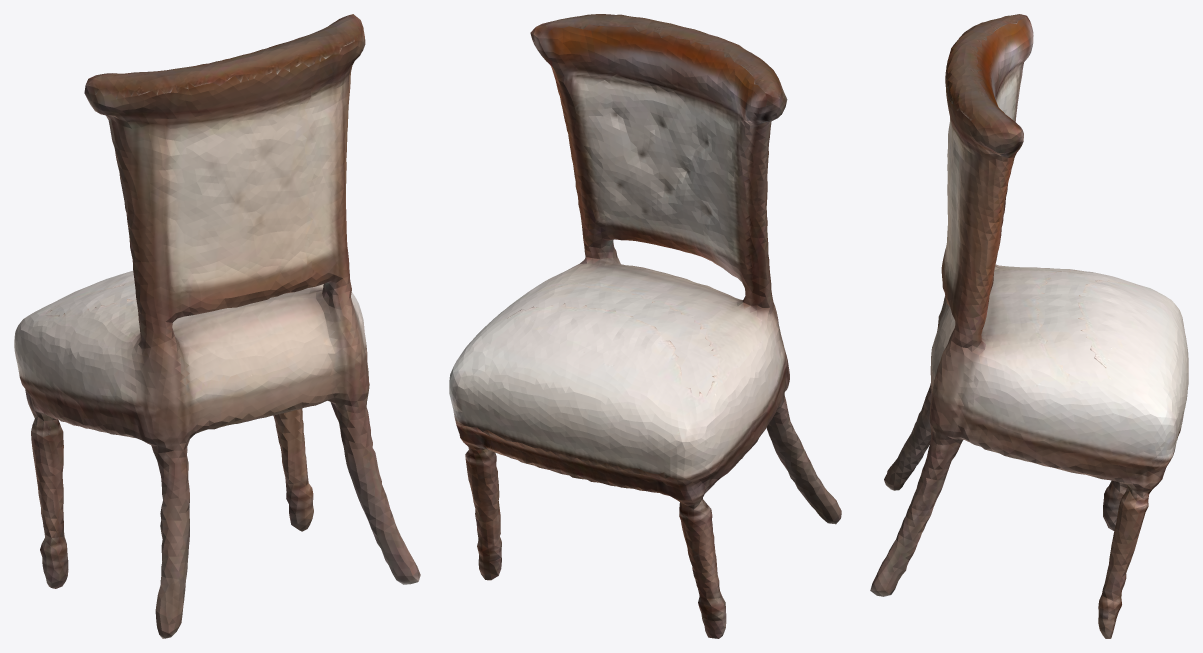
3 renders of one model, left to right at view 1: azimuth 30°, elevation 25°; view 2: azimuth 150°, elevation 25°; view 3: azimuth 270°, elevation 25°, orthographic. The views are drawn at different scales.
Parts seen in each view (by area): view 1: world; view 2: world; view 3: world.
Boxes of the visible parts, <box> form: world: <box>14,14,420,638</box>; world: <box>449,14,841,638</box>; world: <box>870,14,1188,638</box>.
Size of the model in its own units: 0.4957 by 0.9439 by 0.5225.
1 material, 1 textured.
